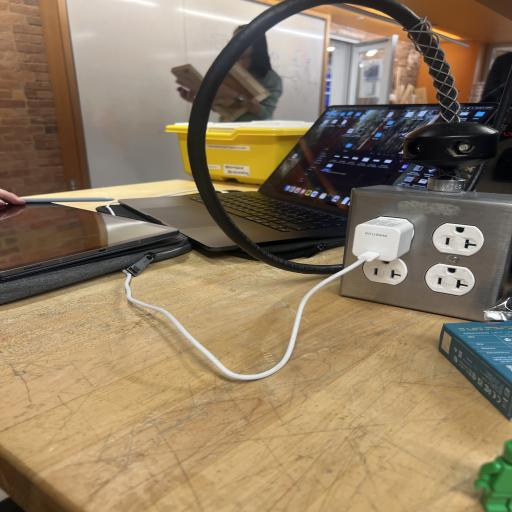green-lego-minifigure-detector: (475, 440, 512, 512)
